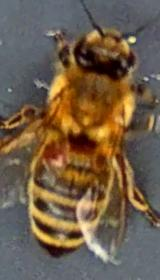varroa_mite: (32, 136, 74, 172)
